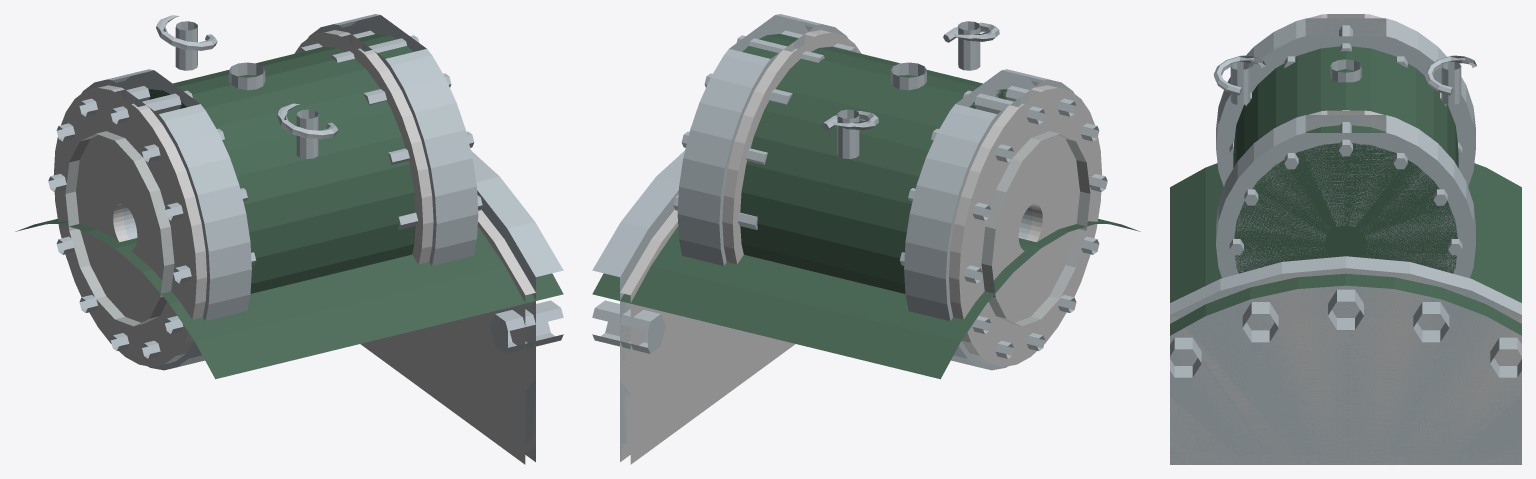
File: cell_61.obj
3 views of the same model, side by side, from view 1: azimuth 30°, elevation 25°; view 2: azimuth 150°, elevation 25°; view 3: azimuth 270°, elevation 25° (orthographic). The views are drawn at different scales.
Size of the model in its own units: 1 by 1 by 1.
